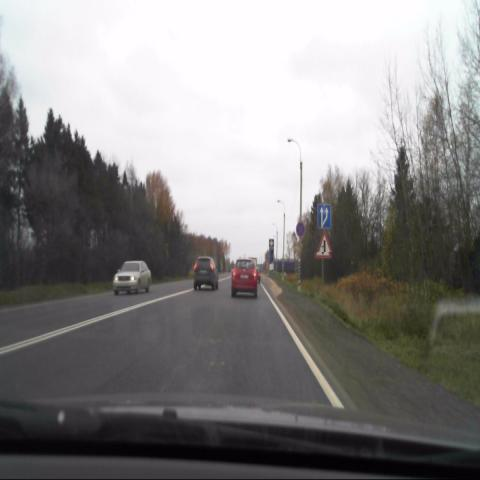3_27: (294, 219, 306, 238)
5_15_3: (317, 203, 331, 228)
